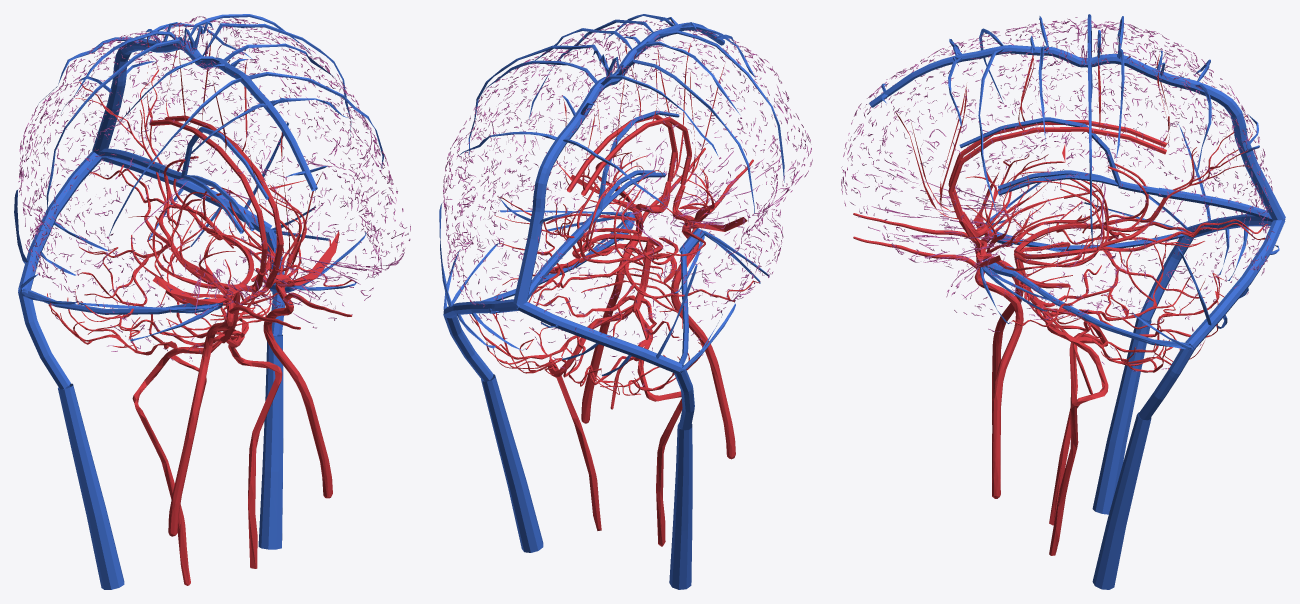
File: bodyparts3d-brain-vessels.glb
The picture shows the model from 3 angles, left to right: view 1: azimuth 30°, elevation 25°; view 2: azimuth 150°, elevation 25°; view 3: azimuth 270°, elevation 25°; orthographic projection. The views are drawn at different scales.
Visible parts, largest first — view 1: caps, cortveins, ijv, sss, ts, ica_R, ica_L, va_L, va_R, sig, pca_R, br_aca (+16 smaller); view 2: caps, cortveins, ijv, sss, ts, ica_R, sig, va_L, va_R, pca_R, ica_L, br_aca (+15 smaller); view 3: caps, ijv, cortveins, sss, ts, sig, ica_L, pca_L, va_L, pet, pca_R, br_aca (+14 smaller).
Boxes of the visible parts, x1,y1,x2,y2 form: caps: [18, 16, 410, 361]; cortveins: [14, 14, 384, 341]; ijv: [58, 334, 283, 589]; sss: [92, 38, 317, 191]; ts: [18, 151, 271, 290]; ica_R: [168, 293, 234, 536]; ica_L: [263, 281, 332, 498]; va_L: [226, 335, 282, 568]; va_R: [132, 340, 222, 585]; sig: [18, 229, 284, 389]; pca_R: [75, 88, 185, 336]; br_aca: [147, 25, 321, 330]; caps: [443, 20, 812, 388]; cortveins: [439, 14, 784, 376]; ijv: [481, 374, 692, 589]; sss: [513, 22, 724, 305]; ts: [443, 299, 682, 373]; ica_R: [671, 222, 735, 459]; sig: [443, 314, 694, 430]; va_L: [548, 304, 633, 530]; va_R: [637, 310, 682, 546]; pca_R: [536, 187, 753, 336]; ica_L: [581, 209, 643, 423]; br_aca: [563, 43, 724, 267]; caps: [841, 17, 1274, 371]; ijv: [1092, 316, 1151, 589]; cortveins: [881, 14, 1279, 349]; sss: [869, 45, 1285, 220]; ts: [1185, 214, 1285, 349]; sig: [1138, 231, 1194, 420]; ica_L: [974, 252, 1023, 498]; pca_L: [1012, 151, 1265, 326]; va_L: [1042, 311, 1108, 555]; pet: [1012, 233, 1190, 346]; pca_R: [1013, 132, 1267, 247]; br_aca: [895, 54, 1169, 295].
Size of the model in its own units: 0.1403 by 0.2387 by 0.1862.
